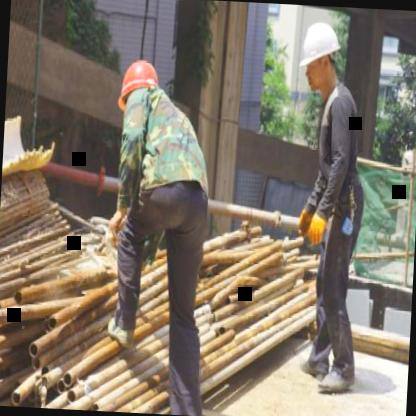helmet: (300, 20, 344, 96), (116, 54, 165, 116)
